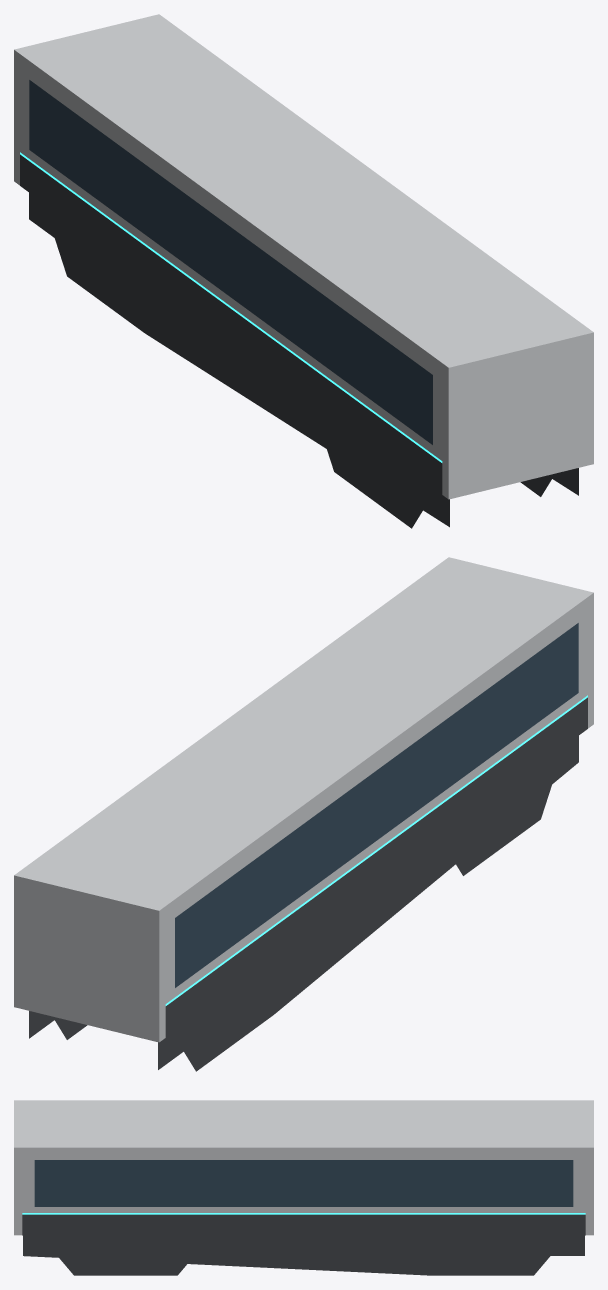
Rendered from 319_far.fbx.
3 renders of one model, top to bottom at view 1: azimuth 30°, elevation 25°; view 2: azimuth 150°, elevation 25°; view 3: azimuth 270°, elevation 25°, orthographic. The views are drawn at different scales.
Visible parts, largest first — view 1: 319_far; view 2: 319_far; view 3: 319_far.
Part boxes in pixels (x1=…): 319_far: x1=14, y1=14, x2=593, y2=528; 319_far: x1=14, y1=557, x2=593, y2=1071; 319_far: x1=14, y1=1100, x2=593, y2=1275.
Bounding box in the file's own units: 2.71 × 3.48 × 14.
